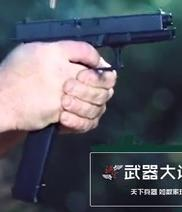gun: (1, 1, 182, 212)
